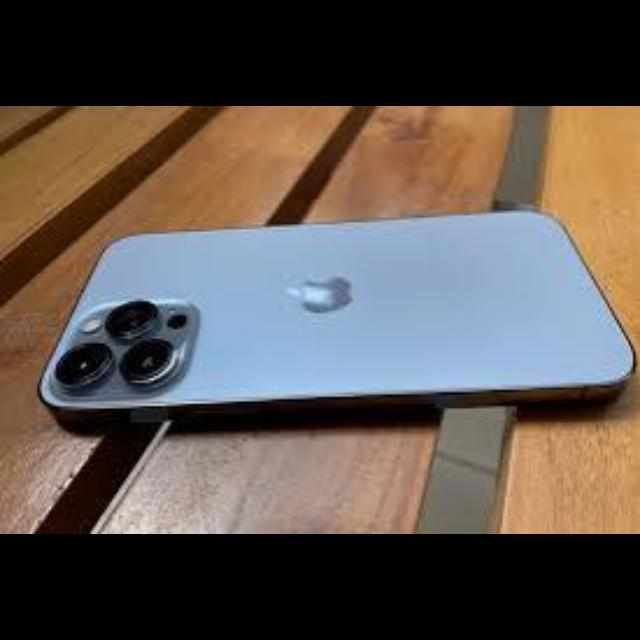PhoneUse: (37, 211, 637, 434)
